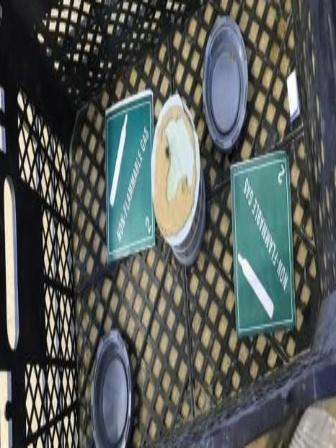non-flammable-gas: (230, 146, 292, 335), (104, 90, 154, 263)
